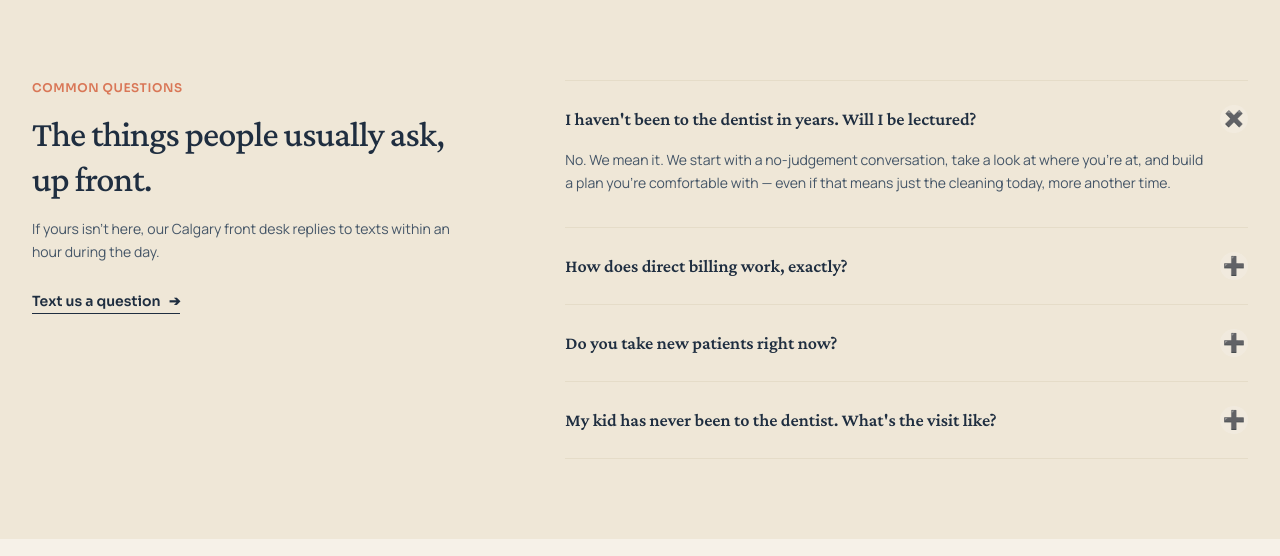
Test: FaqSection accordion › toggles an open item closed on a second click
Click the 1st button at (907, 119), box [565, 97, 1248, 141]
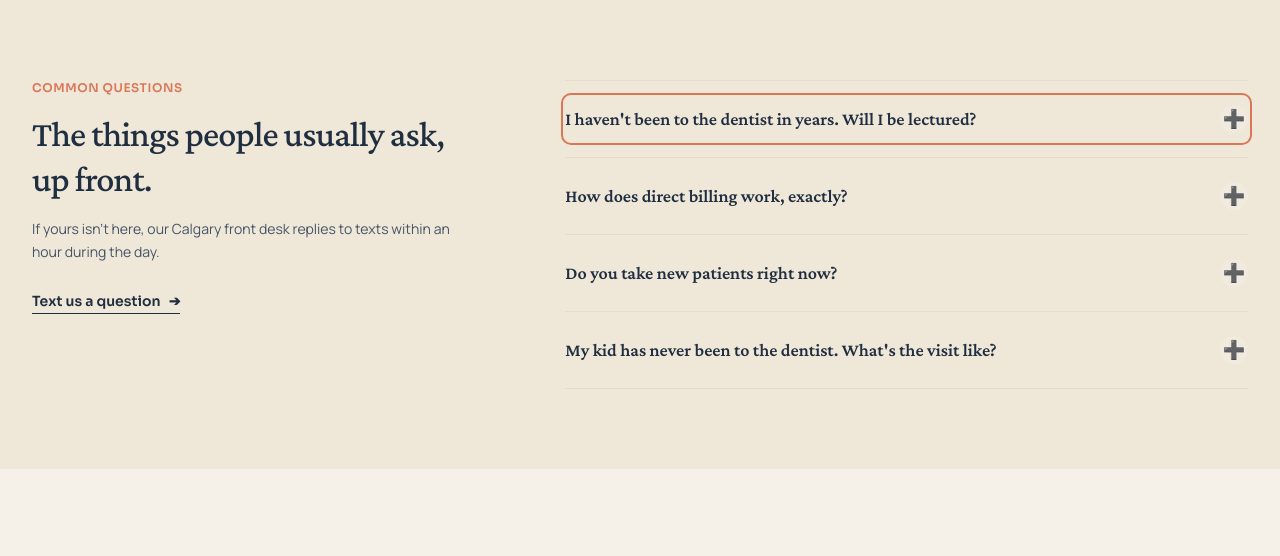
Expected: the 1st button is collapsed, [565, 97, 1248, 141]
